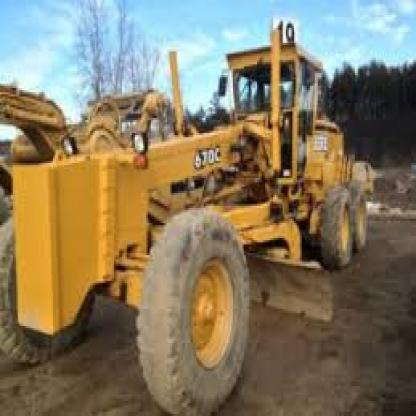bull_dozer/loader/grader: (15, 20, 382, 406)
